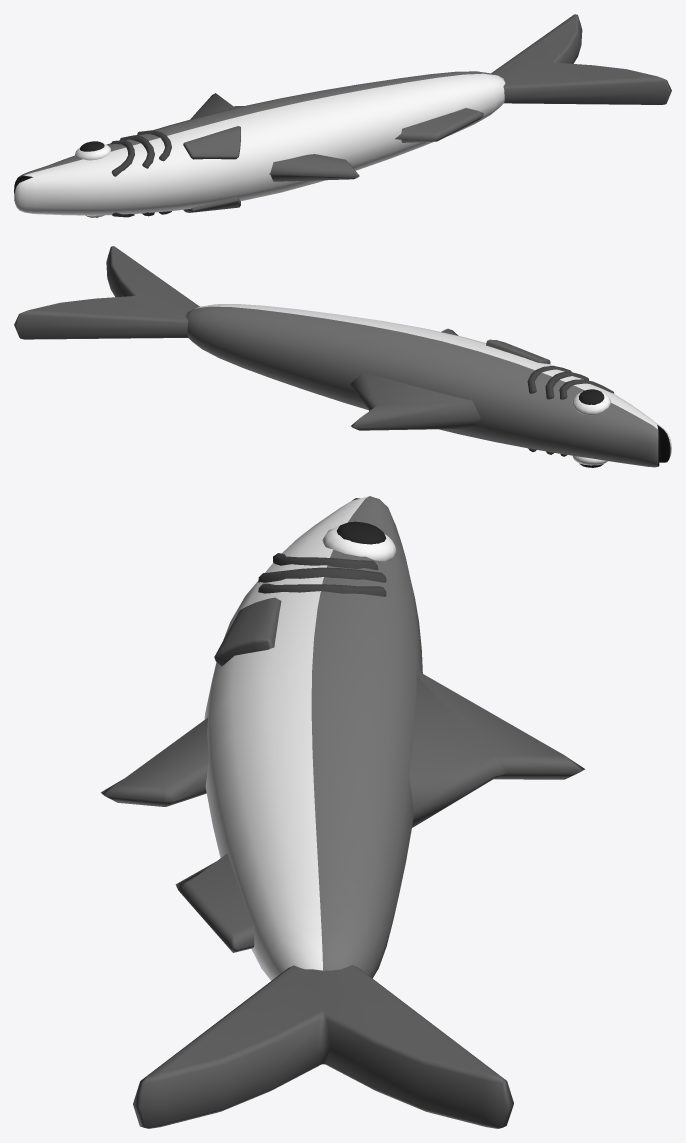
Rendered from Sardine_3.fbx.
3 views of the same model, one above another, from view 1: azimuth 30°, elevation 25°; view 2: azimuth 150°, elevation 25°; view 3: azimuth 270°, elevation 25° (orthographic). The views are drawn at different scales.
Parts seen in each view (by area): view 1: Sardine_3; view 2: Sardine_3; view 3: Sardine_3.
Part boxes in pixels (x1,y1,x2,y2): Sardine_3: (14, 14, 671, 217); Sardine_3: (14, 246, 671, 467); Sardine_3: (101, 496, 584, 1128).
Bounding box in the file's own units: 32.12 × 4.1 × 11.2.
